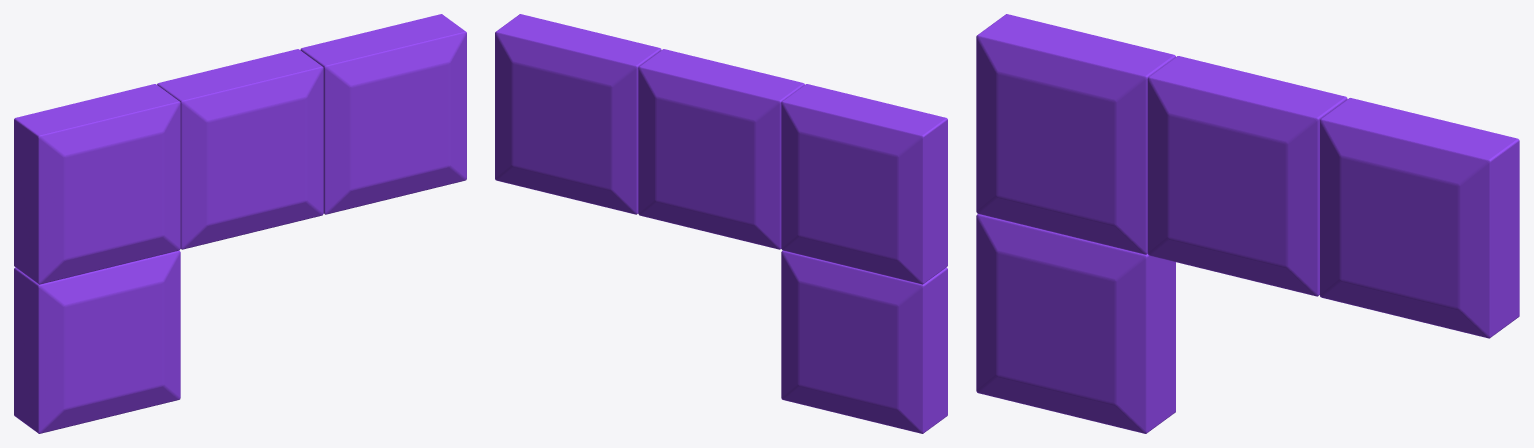
3 views of the same model, side by side, from view 1: azimuth 30°, elevation 25°; view 2: azimuth 150°, elevation 25°; view 3: azimuth 330°, elevation 25° (orthographic). The views are drawn at different scales.
Visible parts, largest first — view 1: Cube.035, Cube.026, Cube.028, Cube.027; view 2: Cube.035, Cube.026, Cube.028, Cube.027; view 3: Cube.028, Cube.027, Cube.035, Cube.026.
Part boxes in pixels (x1,y1,x2,y2): Cube.035: [14, 84, 180, 284]; Cube.026: [14, 250, 180, 433]; Cube.028: [300, 14, 466, 214]; Cube.027: [157, 49, 323, 249]; Cube.035: [781, 84, 947, 284]; Cube.026: [781, 250, 947, 433]; Cube.028: [495, 14, 661, 214]; Cube.027: [638, 49, 804, 249]; Cube.028: [1320, 98, 1519, 338]; Cube.027: [1147, 56, 1347, 296]; Cube.035: [976, 14, 1175, 254]; Cube.026: [976, 214, 1175, 433].
Bounding box in the file's own units: 0.5984 × 0.3981 × 0.0799.
